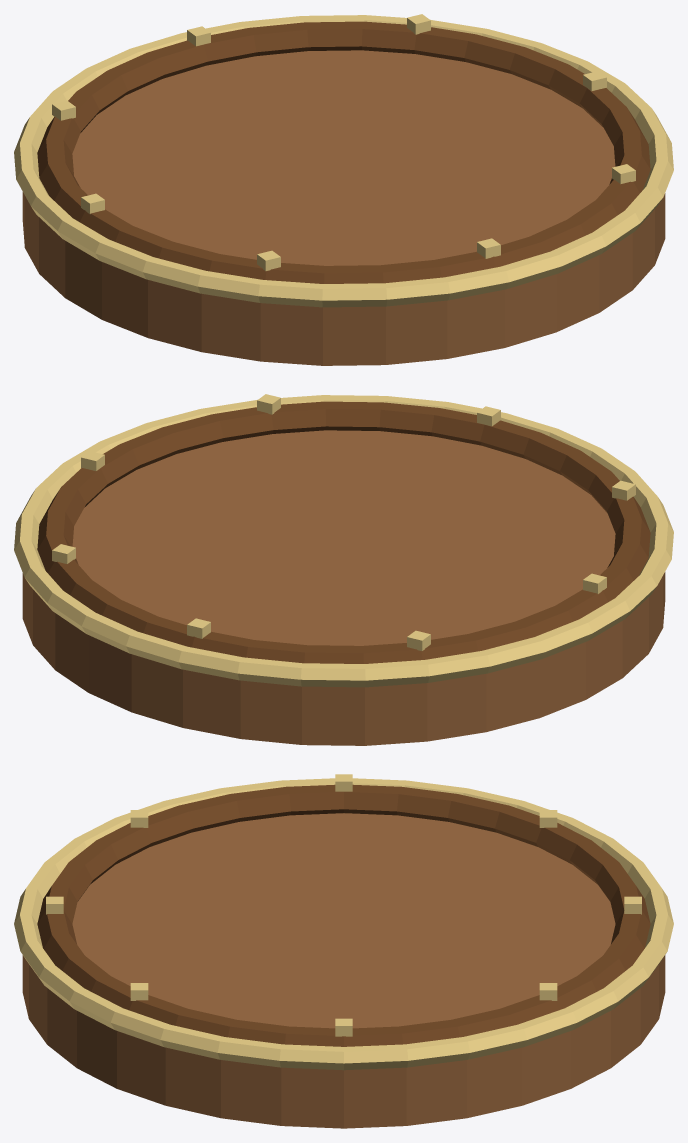
Rendered from wheel_bowl.glb.
3 renders of one model, top to bottom at view 1: azimuth 30°, elevation 25°; view 2: azimuth 150°, elevation 25°; view 3: azimuth 270°, elevation 25°, orthographic.
Visible parts, largest first — view 1: wheel_bowl; view 2: wheel_bowl; view 3: wheel_bowl.
Boxes of the visible parts, <box> form: wheel_bowl: <box>14,14,673,365</box>; wheel_bowl: <box>14,394,673,745</box>; wheel_bowl: <box>14,774,673,1128</box>.
Size of the model in its own units: 1.13 by 0.175 by 1.13.
